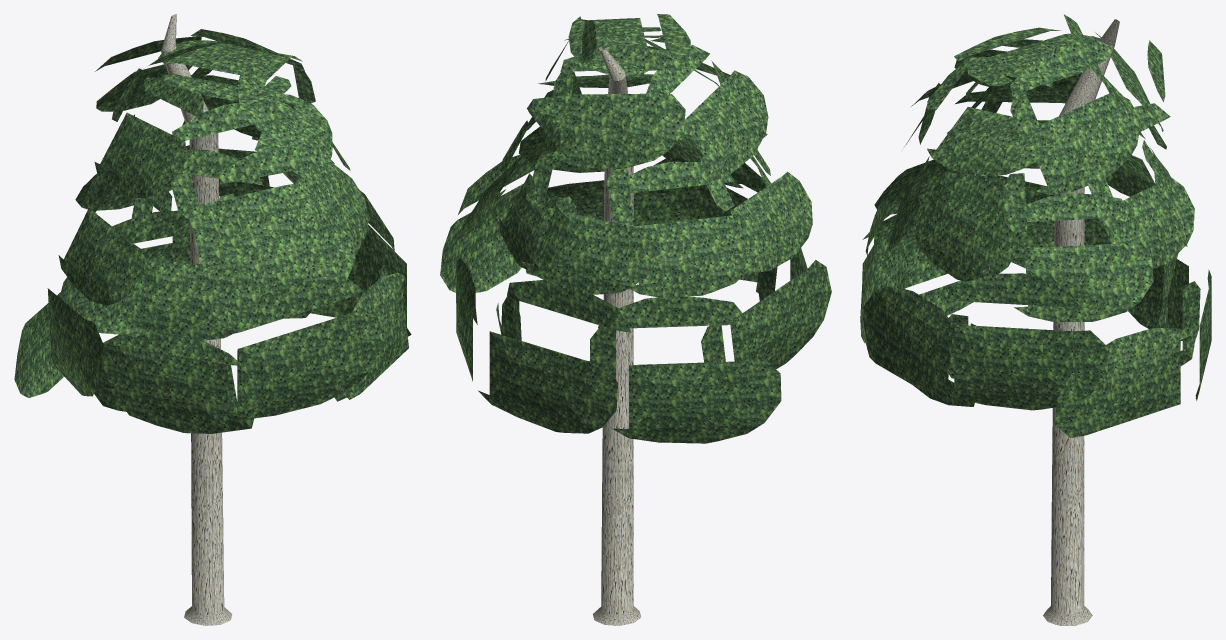
File: Tree.dae
The picture shows the model from 3 angles, left to right: view 1: azimuth 30°, elevation 25°; view 2: azimuth 150°, elevation 25°; view 3: azimuth 270°, elevation 25°; orthographic projection.
Parts seen in each view (by area): view 1: group_0.042, group_0.006, instance_0, group_0.053, group_0.010, group_0.038, group_0.021, group_0.035, group_0.008, group_0.015, group_0.003, group_0.028 (+25 smaller); view 2: group_0.028, instance_0, group_0.029, group_0, group_0.018, group_0.004, group_0.008, group_0.021, group_0.038, group_0.007, group_0.034, group_0.032 (+23 smaller); view 3: group_0.007, instance_0, group_0.019, group_0.015, group_0.048, group_0.058, group_0.020, group_0.017, group_0.034, group_0.013, group_0.001, group_0.042 (+26 smaller).
Part boxes in pixels (box(x1,y1,x2,y2)): group_0.042: box(94, 331, 243, 428); group_0.006: box(232, 308, 383, 418); instance_0: box(161, 14, 232, 625); group_0.053: box(120, 257, 260, 340); group_0.010: box(235, 223, 355, 296); group_0.038: box(58, 208, 145, 305); group_0.021: box(94, 112, 186, 197); group_0.035: box(189, 184, 316, 271); group_0.008: box(47, 288, 103, 396); group_0.015: box(338, 273, 408, 399); group_0.003: box(225, 276, 363, 333); group_0.028: box(14, 288, 76, 397); group_0.028: box(612, 358, 781, 443); instance_0: box(593, 46, 641, 625); group_0.029: box(478, 331, 617, 433); group_0: box(629, 215, 758, 298); group_0.018: box(521, 207, 657, 294); group_0.004: box(547, 93, 685, 168); group_0.008: box(730, 260, 831, 368); group_0.021: box(684, 70, 768, 179); group_0.038: box(730, 171, 812, 272); group_0.007: box(440, 184, 523, 292); group_0.034: box(499, 173, 569, 271); group_0.032: box(598, 296, 742, 328); group_0.007: box(938, 324, 1107, 410); instance_0: box(1043, 19, 1119, 625); group_0.019: box(1055, 328, 1192, 437); group_0.015: box(863, 286, 963, 403); group_0.048: box(1014, 243, 1153, 321); group_0.058: box(915, 186, 1019, 281); group_0.020: box(927, 107, 1055, 176); group_0.017: box(1035, 93, 1139, 194); group_0.034: box(1102, 177, 1194, 268); group_0.013: box(947, 273, 1099, 308); group_0.001: box(985, 33, 1111, 83); group_0.042: box(862, 207, 947, 287).
Bounding box in the file's own units: 228 × 199 × 370.
Materials: 3 (2 with a texture image).
